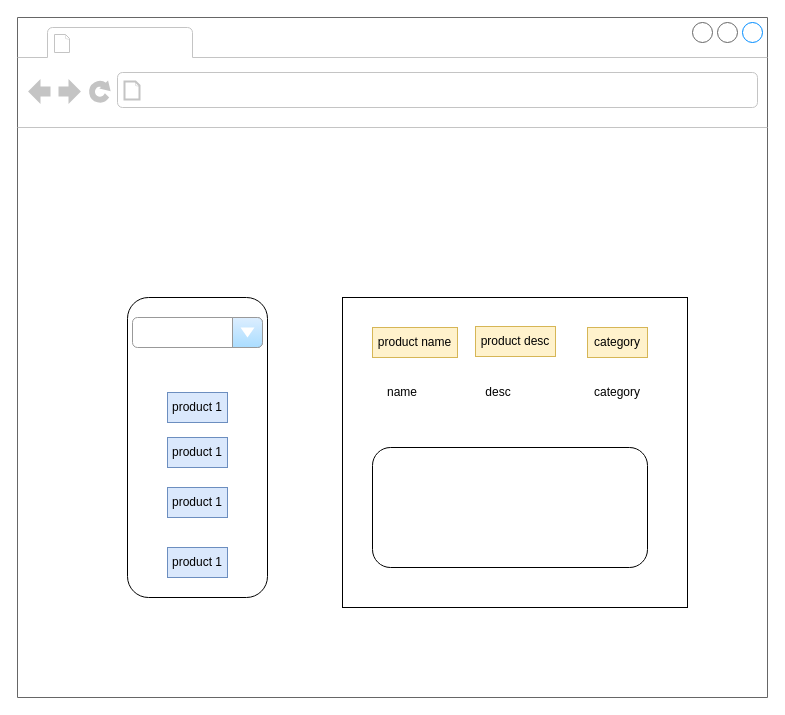
This 785x715 diagram has some shape labels left out. The centre of each missing label's shape, as x and y in pixels:
"https://www.draw.io" belongs at (x=272, y=90).
"image" belongs at (x=510, y=507).
"Page 1" belongs at (x=132, y=42).
"supplier" belongs at (x=197, y=332).
